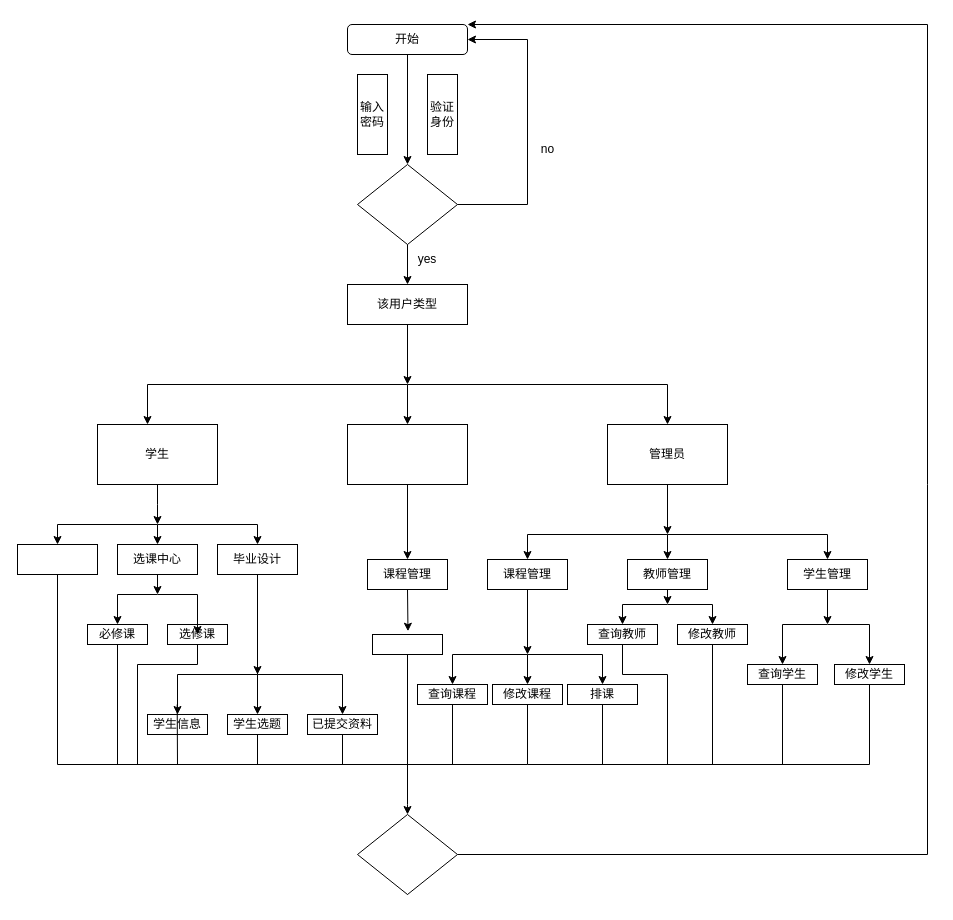
Some shapes in this 953 by 920 pixel diagram are drawn without their labels. The centre of each missing label's shape, as x and y in pixels:
学生列表: point 407,644
教学质量评价: point 57,559
教师: point 407,454
用户登录: point 407,204
退出: point 407,854
